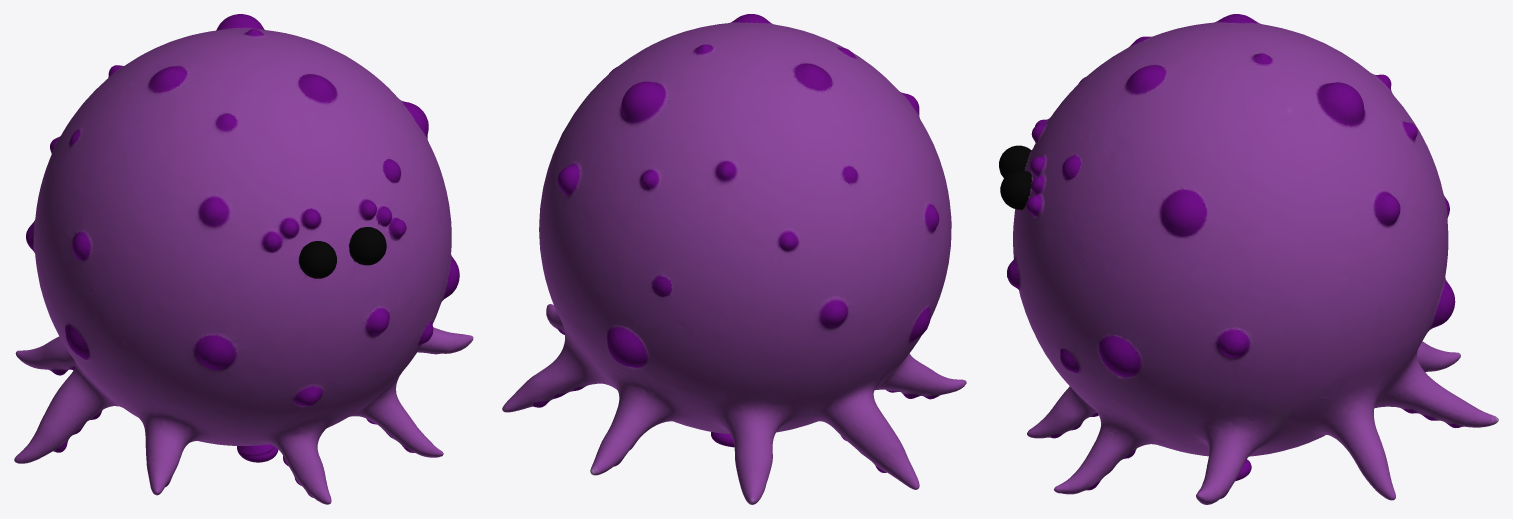
Rendered from smeerws_2018-03-11_07-32-31octopus.fbx.
3 renders of one model, left to right at view 1: azimuth 30°, elevation 25°; view 2: azimuth 150°, elevation 25°; view 3: azimuth 270°, elevation 25°, orthographic. The views are drawn at different scales.
Visible parts, largest first — view 1: Layer_1; view 2: Layer_1; view 3: Layer_1.
Boxes of the visible parts, x1,y1,x2,y2 form: Layer_1: (14, 14, 473, 504); Layer_1: (502, 14, 966, 504); Layer_1: (999, 14, 1498, 504).
Bounding box in the file's own units: 0.6654 × 0.6671 × 0.6291.
